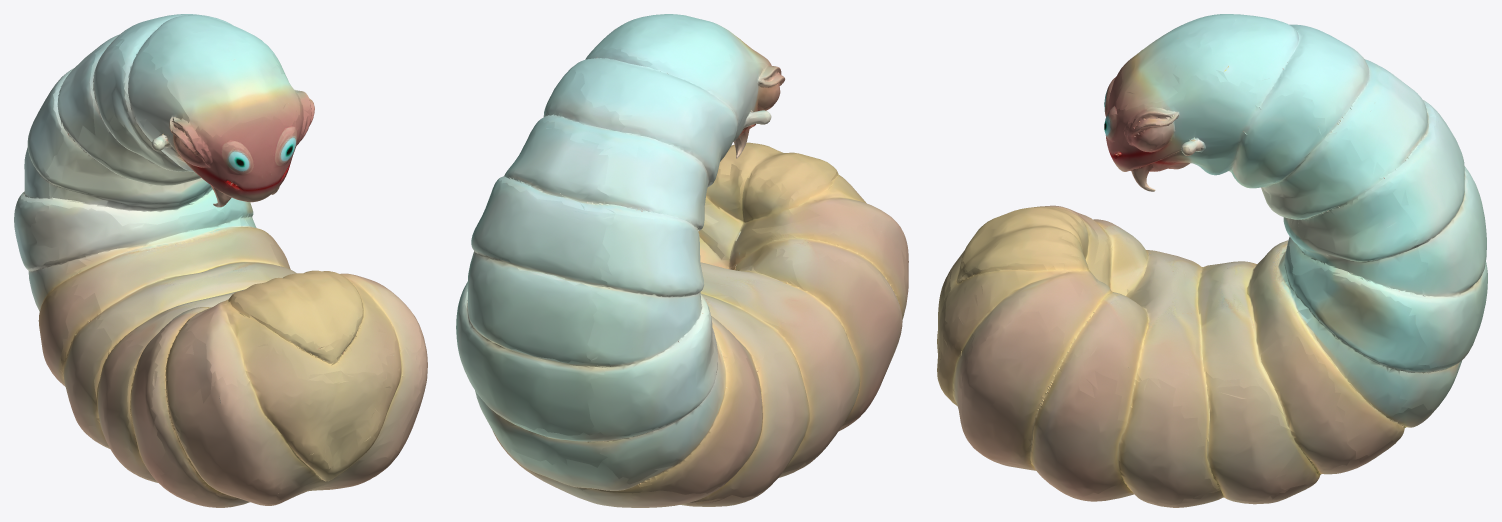
Rendered from glow_worm.glb.
3 views of the same model, side by side, from view 1: azimuth 30°, elevation 25°; view 2: azimuth 150°, elevation 25°; view 3: azimuth 270°, elevation 25° (orthographic). The views are drawn at different scales.
Bounding box in the file's own units: 1.16 × 1.7 × 1.9.
Materials: 1 (1 with a texture image).
